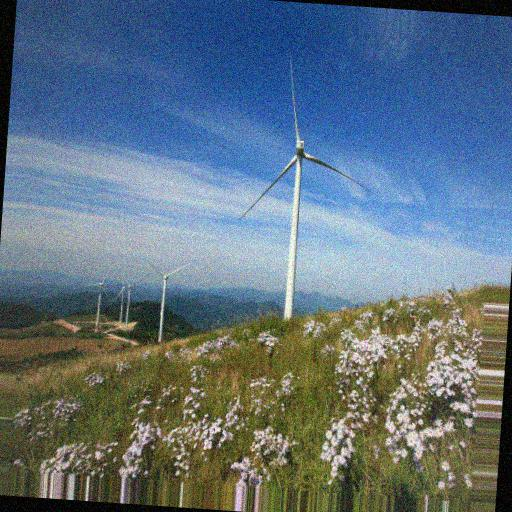wind turbine: (238, 55, 373, 323), (140, 257, 192, 344)
